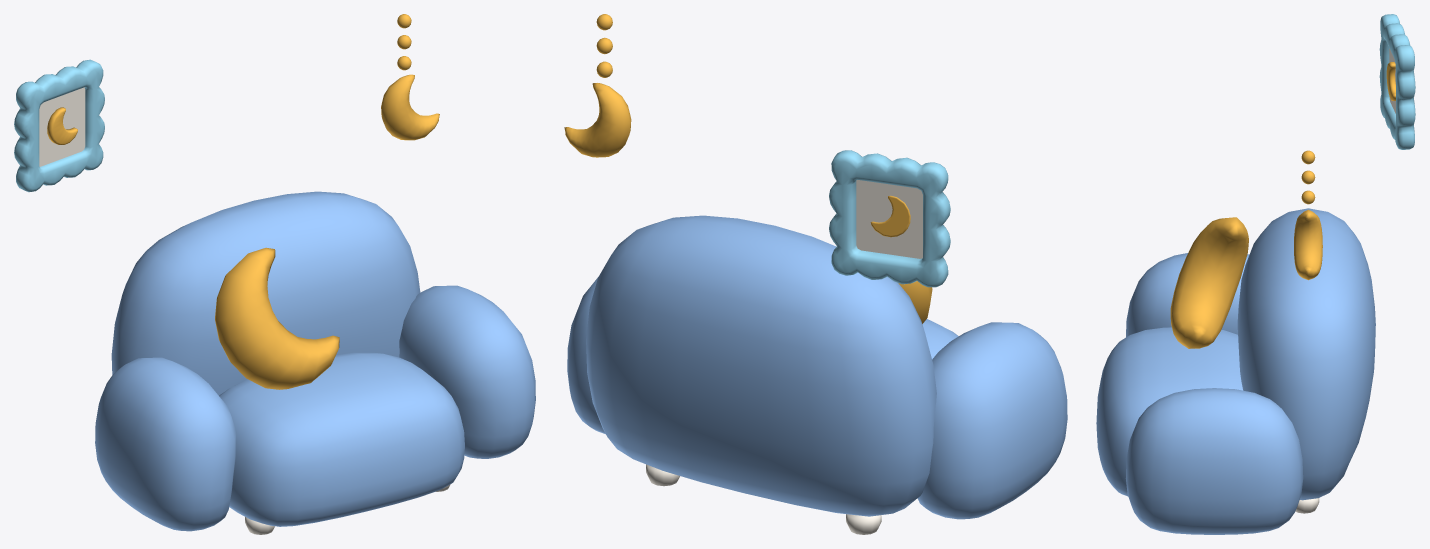
Rendered from Sofa.fbx.
3 views of the same model, side by side, from view 1: azimuth 30°, elevation 25°; view 2: azimuth 150°, elevation 25°; view 3: azimuth 270°, elevation 25° (orthographic). The views are drawn at different scales.
Visible parts, largest first — view 1: SofaBack, SofaSide, Sofa, MoonPicture, MoonCushion, MoonOrnament; view 2: SofaBack, SofaSide, MoonPicture, MoonOrnament, SofaLeg, Sofa, MoonCushion; view 3: SofaBack, SofaSide, Sofa, MoonCushion, MoonPicture, MoonOrnament.
Part boxes in pixels (box(x1,y1,x2,y2)): SofaBack: box(111, 191, 420, 395); SofaSide: box(95, 285, 535, 531); Sofa: box(219, 352, 464, 526); MoonPicture: box(14, 59, 104, 192); MoonCushion: box(215, 247, 339, 389); MoonOrnament: box(381, 14, 439, 140); SofaBack: box(586, 215, 936, 516); SofaSide: box(567, 277, 1067, 519); MoonPicture: box(829, 150, 950, 287); MoonOrnament: box(564, 14, 631, 157); SofaLeg: box(646, 464, 881, 534); Sofa: box(922, 319, 958, 359); MoonCushion: box(898, 281, 932, 323); SofaBack: box(1237, 208, 1375, 500); SofaSide: box(1125, 253, 1303, 534); Sofa: box(1096, 327, 1242, 496); MoonCushion: box(1170, 217, 1248, 348); MoonPicture: box(1379, 14, 1415, 149); MoonOrnament: box(1294, 150, 1322, 280).
Size of the model in its own units: 2.35 by 2.24 by 1.69.
